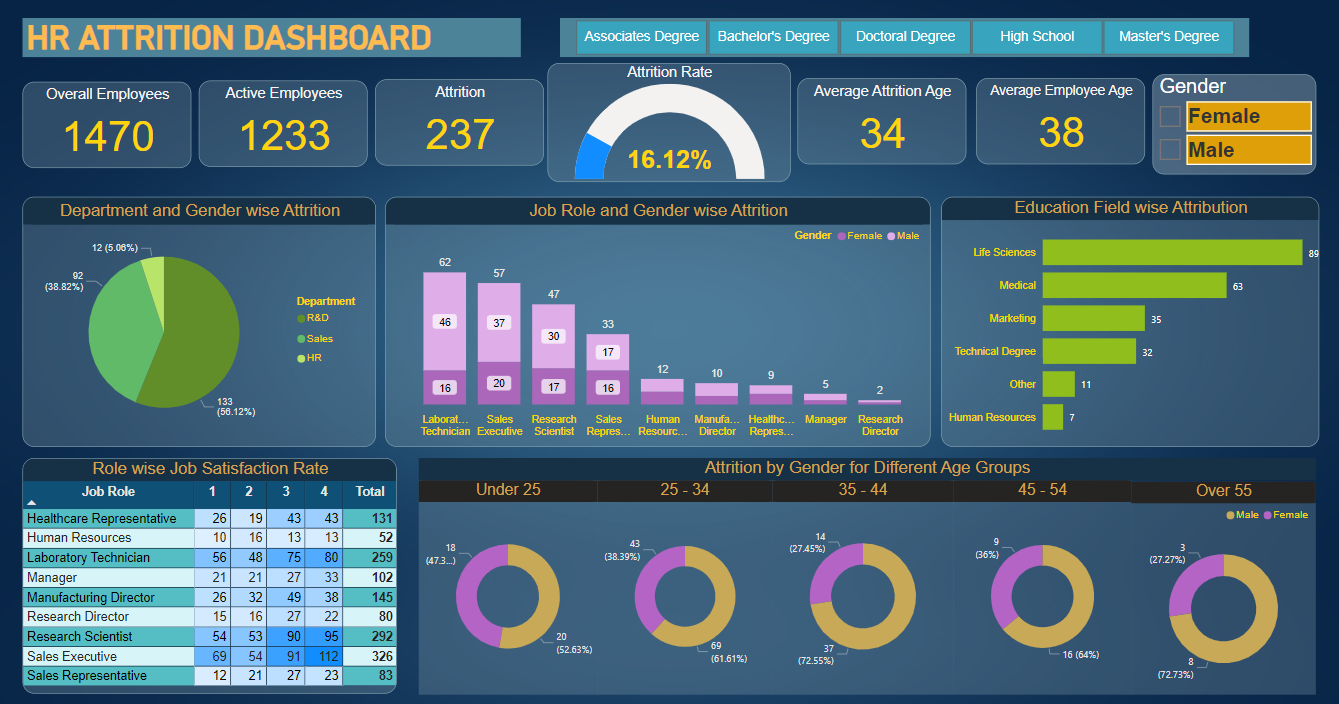

Layout of this report page (visuals, bound fields, positions):
{"tool":"powerbi","page":{"name":"Page 1","canvas":[1700,900],"ordinal":0},"visuals":[{"type":"card","title":"Overall Employees","fields":{"Values":["Sum(HR data.Employee Count)"]},"box":[27.8,106.5,214.5,109.6],"z":0},{"type":"card","title":"Active Employees","fields":{"Values":["Sum(HR data.CF_current Employee)"]},"box":[253.1,104.9,214.5,109.6],"z":1000},{"type":"card","title":"Attrition","fields":{"Values":["Sum(HR data.Attrition count)"]},"box":[476.9,103.4,214.5,109.6],"z":2000},{"type":"gauge","title":"Attrition Rate","fields":{"Y":["HR data.Attrition Rate"]},"box":[696,81.8,308.6,151.2],"z":3000},{"type":"card","title":"Average Attrition Age","fields":{"Values":["HR data.Avg_AT age"]},"box":[1012.4,101.9,214.5,109.6],"z":4000},{"type":"pieChart","title":"Department and Gender wise Attrition","fields":{"Category":["HR data.Department"],"Y":["Sum(HR data.Attrition count)"]},"box":[27.8,253.1,449.1,317.9],"z":5000},{"type":"lineStackedColumnComboChart","title":"Job Role and Gender wise Attrition","fields":{"Category":["HR data.Job Role"],"Y":["Sum(HR data.Attrition count)"],"Series":["HR data.Gender"]},"box":[489.2,253.1,692.9,317.9],"z":6000},{"type":"pivotTable","title":"Role wise Job Satisfaction Rate ","fields":{"Rows":["HR data.Job Role"],"Columns":["HR data.Job Satisfaction"],"Values":["Sum(HR data.Employee Count)"]},"box":[27.8,584.9,475.3,299.4],"z":7000},{"type":"clusteredBarChart","title":"Education Field wise Attribution","fields":{"Y":["Sum(HR data.Attrition count)"],"Category":["HR data.Education Field"]},"box":[1196,253.1,479.9,317.9],"z":8000},{"type":"donutChart","title":"Under 25","fields":{"Y":["Sum(HR data.Attrition count)"],"Category":["HR data.Gender"],"Series":["HR data.CF_age band"]},"box":[531.6,612.5,227,272],"z":9000},{"type":"donutChart","title":"25 - 34","fields":{"Y":["Sum(HR data.Attrition count)"],"Category":["HR data.Gender"],"Series":["HR data.CF_age band"]},"box":[758.6,612.5,222.3,272],"z":10000},{"type":"donutChart","title":"35 - 44","fields":{"Y":["Sum(HR data.Attrition count)"],"Category":["HR data.Gender"],"Series":["HR data.CF_age band"]},"box":[980.9,612.5,230.1,272],"z":11000},{"type":"donutChart","title":"45 - 54","fields":{"Y":["Sum(HR data.Attrition count)"],"Category":["HR data.Gender"],"Series":["HR data.CF_age band"]},"box":[1211,612.5,225.4,272],"z":12000},{"type":"donutChart","title":"Over 55","fields":{"Y":["Sum(HR data.Attrition count)"],"Category":["HR data.Gender"],"Series":["HR data.CF_age band"]},"box":[1435.5,612.1,233.7,271.3],"z":13000},{"type":"textbox","title":"Attrition by Gender for Different Age Groups","box":[531.6,584.5,1139.5,28],"z":14000},{"type":"card","title":"Average Employee Age","fields":{"Values":["HR data.Avg_AT age"]},"box":[1239.2,101.9,214.5,109.6],"z":15000},{"type":"textbox","title":"HR ATTRITION DASHBOARD","box":[27.8,24.7,632.7,49.4],"z":16000},{"type":"slicer","fields":{"Values":["HR data.Education"]},"box":[711.4,24.7,875,49.4],"z":17000},{"type":"slicer","fields":{"Values":["HR data.Gender"]},"box":[1462.8,96.4,208.3,127.5],"z":18000}]}

Visuals, with their boxes in screenshot pixels (x1, y1, x2, y2), scaled from the page's 1700x900 canvas onto the 1339x704 screenshot:
"Overall Employees" card: region(22, 83, 191, 169)
"Active Employees" card: region(199, 82, 368, 168)
"Attrition" card: region(376, 81, 545, 167)
"Attrition Rate" gauge: region(548, 64, 791, 182)
"Average Attrition Age" card: region(797, 80, 966, 165)
"Department and Gender wise Attrition" pieChart: region(22, 198, 376, 447)
"Job Role and Gender wise Attrition" lineStackedColumnComboChart: region(385, 198, 931, 447)
"Role wise Job Satisfaction Rate " pivotTable: region(22, 458, 396, 692)
"Education Field wise Attribution" clusteredBarChart: region(942, 198, 1320, 447)
"Under 25" donutChart: region(419, 479, 598, 692)
"25 - 34" donutChart: region(598, 479, 773, 692)
"35 - 44" donutChart: region(773, 479, 954, 692)
"45 - 54" donutChart: region(954, 479, 1131, 692)
"Over 55" donutChart: region(1131, 479, 1315, 691)
"Attrition by Gender for Different Age Groups" textbox: region(419, 457, 1316, 479)
"Average Employee Age" card: region(976, 80, 1145, 165)
"HR ATTRITION DASHBOARD" textbox: region(22, 19, 520, 58)
slicer - HR data.Education: region(560, 19, 1250, 58)
slicer - HR data.Gender: region(1152, 75, 1316, 175)
